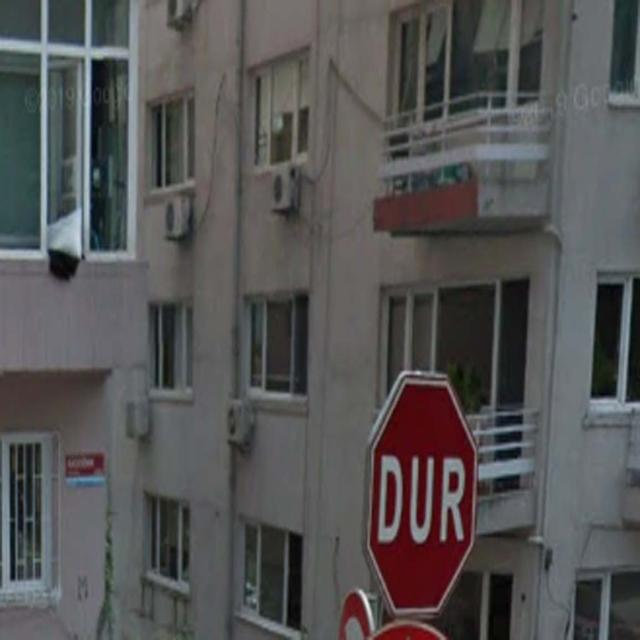dur: (369, 363, 477, 617)
